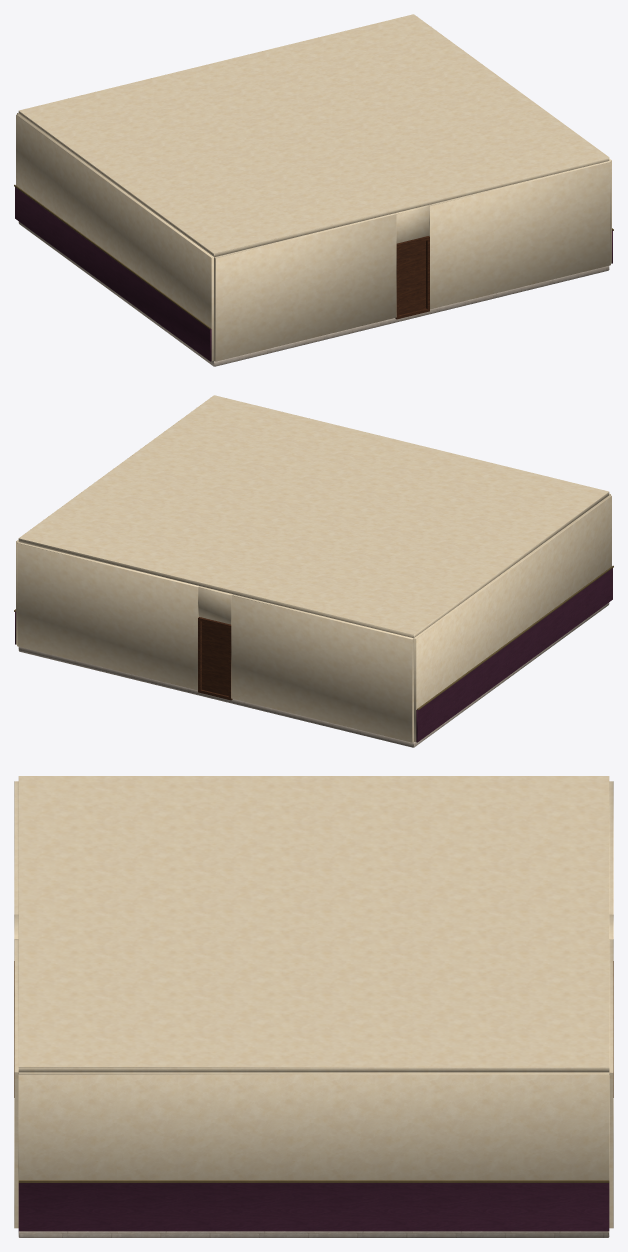
File: explore3d__shelter_reception.glb
3 views of the same model, one above another, from view 1: azimuth 30°, elevation 25°; view 2: azimuth 150°, elevation 25°; view 3: azimuth 270°, elevation 25° (orthographic). The views are drawn at different scales.
Parts seen in each view (by area): view 1: Rebuilt_shelter_reception; view 2: Rebuilt_shelter_reception; view 3: Rebuilt_shelter_reception.
Part boxes in pixels (bbox=[...]): Rebuilt_shelter_reception: bbox=[14, 14, 613, 366]; Rebuilt_shelter_reception: bbox=[14, 395, 613, 747]; Rebuilt_shelter_reception: bbox=[14, 776, 613, 1237].
Bounding box in the file's own units: 14.32 × 3.84 × 12.19.
Materials: 16 (14 with a texture image).
